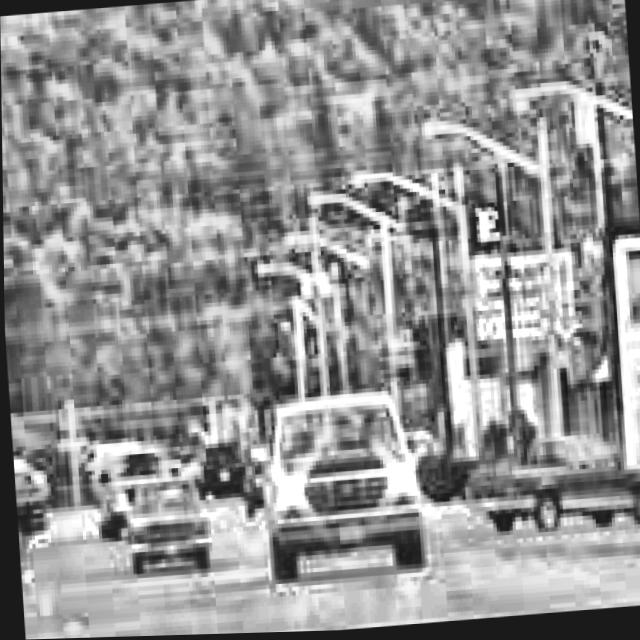light_vehicle: (252, 383, 427, 587), (447, 425, 640, 547), (109, 467, 215, 577), (92, 444, 178, 539)
